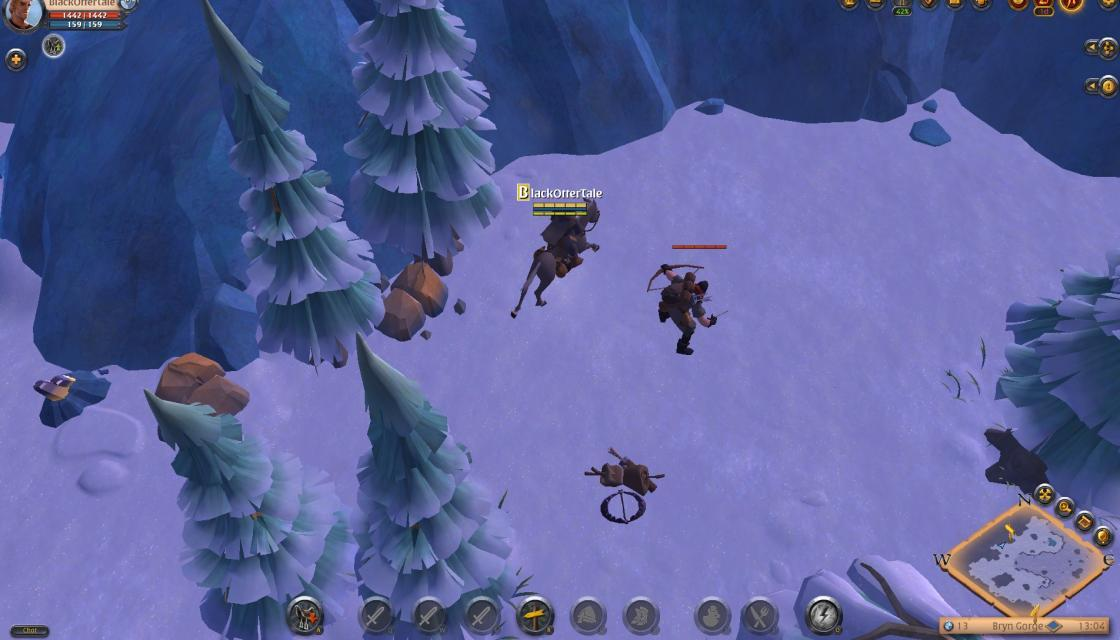copperore: (29, 366, 113, 423)
limestone: (360, 253, 452, 344), (151, 352, 248, 432)
